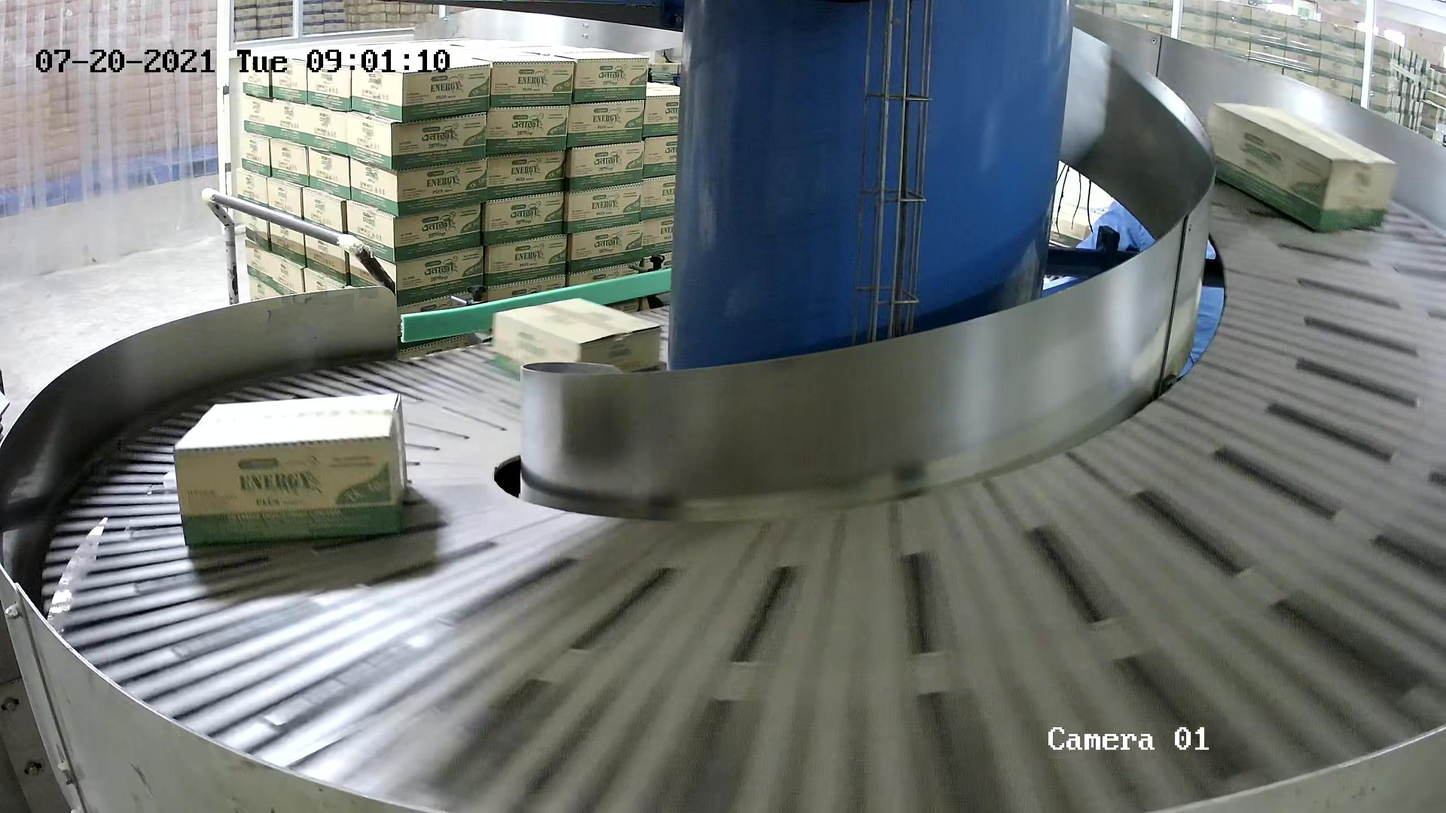Box: (170, 390, 416, 547), (1200, 100, 1399, 234), (491, 294, 664, 406)
